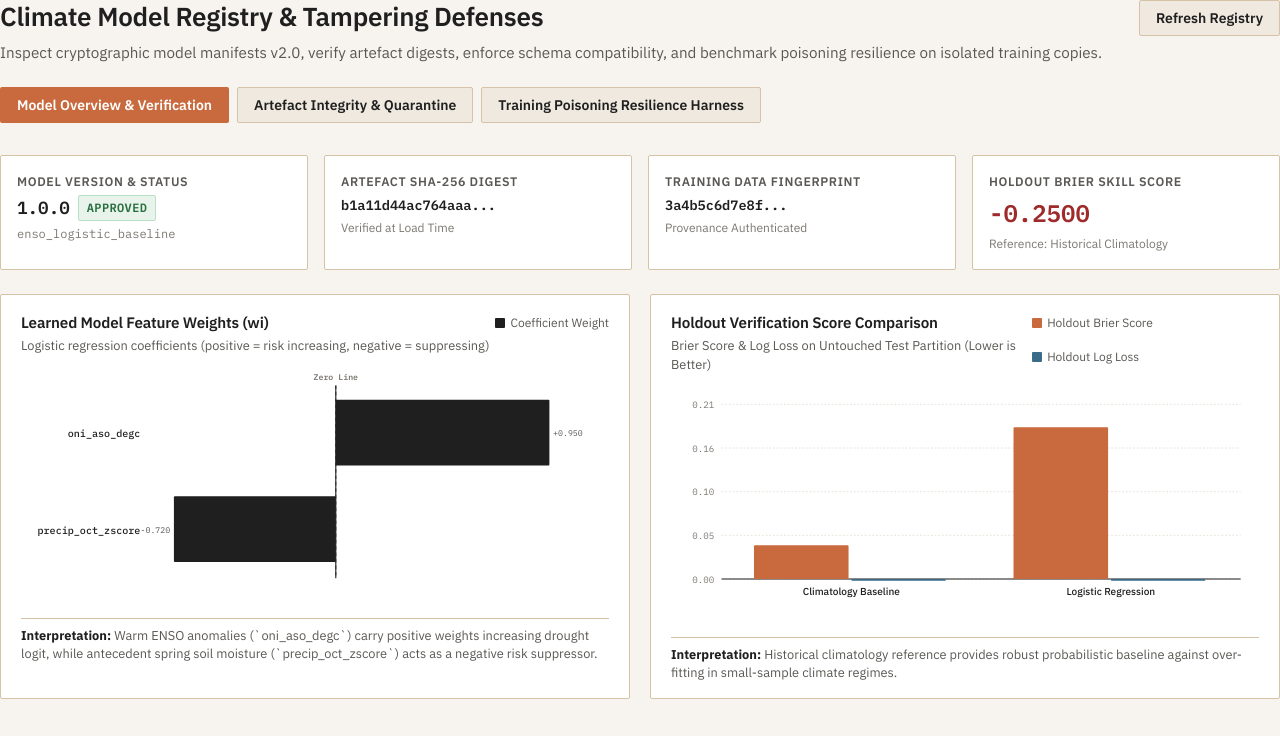
it: ModelsView Artefact Integrity & Poisoning Resilience › switches between Overview, Integrity & Quarantine, and Poisoning Harness tabs
// Click Integrity tab
Click the button "Artefact Integrity & Quarantine".
click(355, 105)  # box [237, 87, 473, 123]
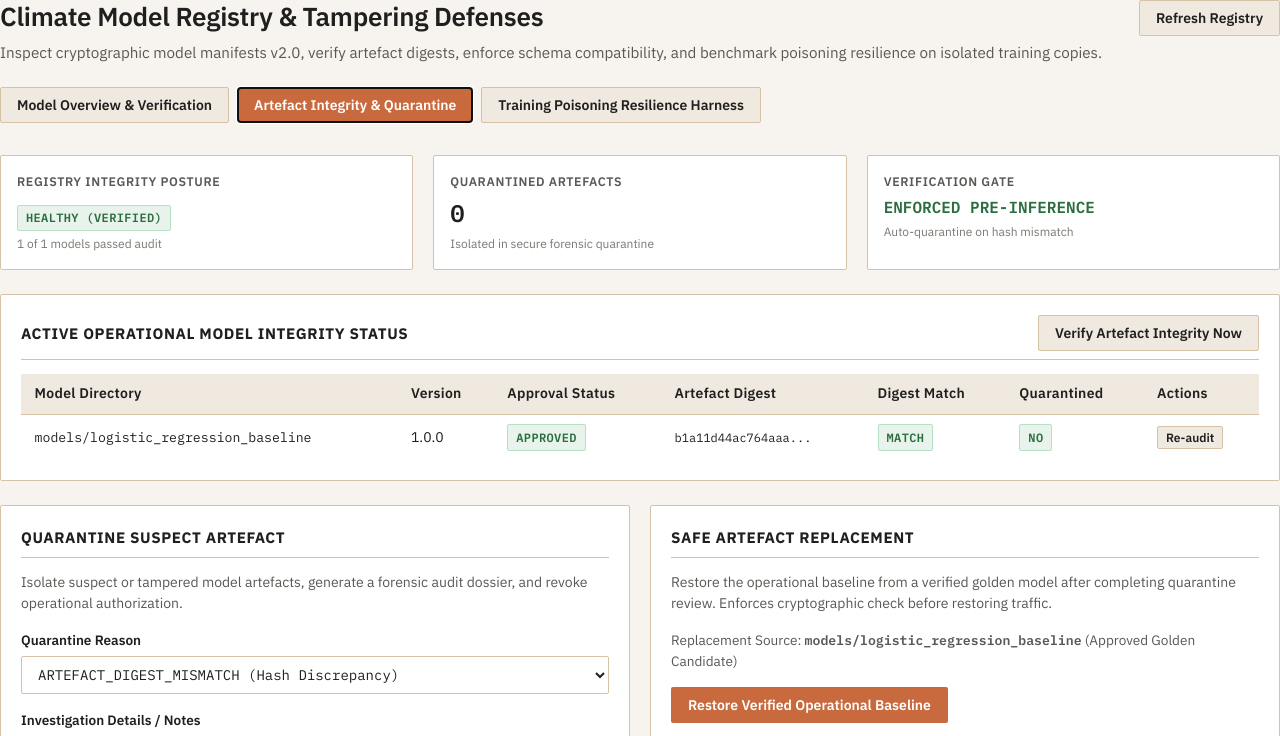
Expected: the heading "Active Operational Model Integrity Status" is shown, [21, 322, 408, 344]
Expected: the button "Verify Artefact Integrity Now" is shown, [1038, 315, 1259, 351]
// Click Poisoning Harness tab
Click the button "Training Poisoning Resilience Harness".
click(621, 105)  # box [481, 87, 761, 123]
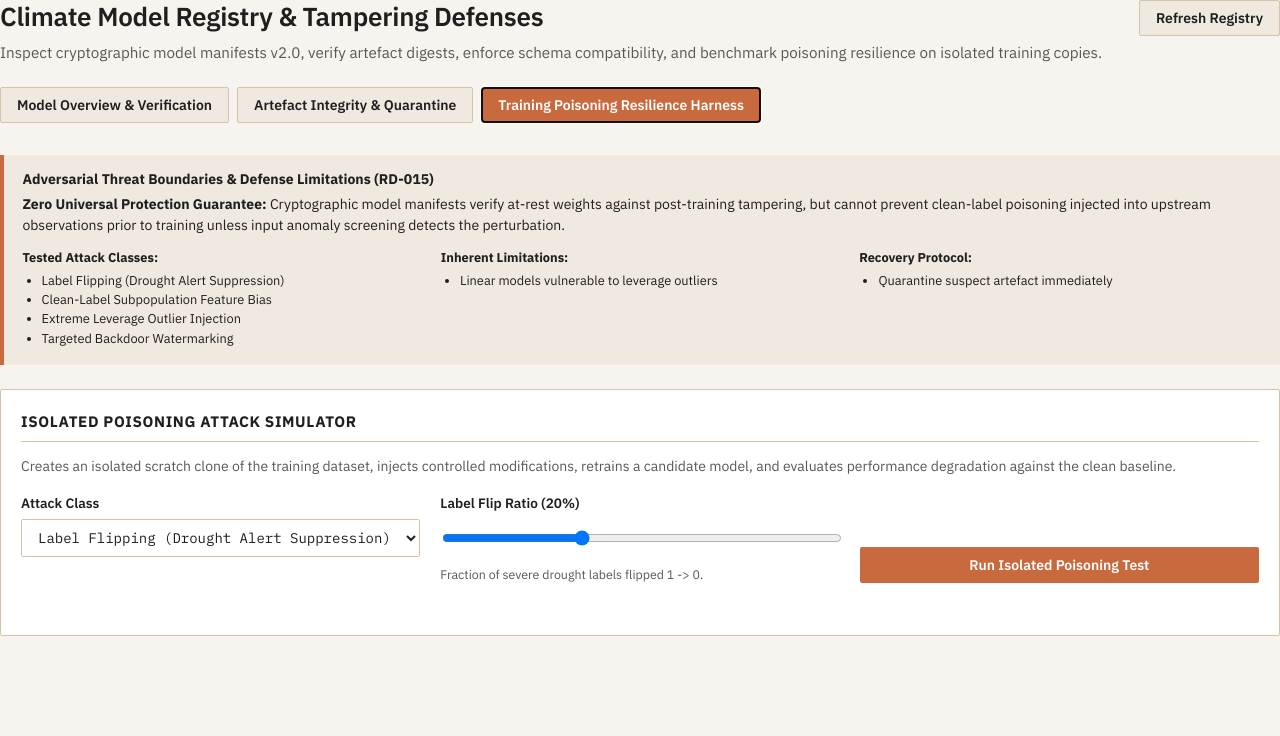
Expected: the heading "Isolated Poisoning Attack Simulator" is shown, [21, 410, 357, 433]
Expected: the text "Adversarial Threat Boundaries & Defense Limitations (RD-015)" is shown, [22, 170, 434, 188]
Expected: the button "Run Isolated Poisoning Test" is shown, [860, 547, 1259, 583]
